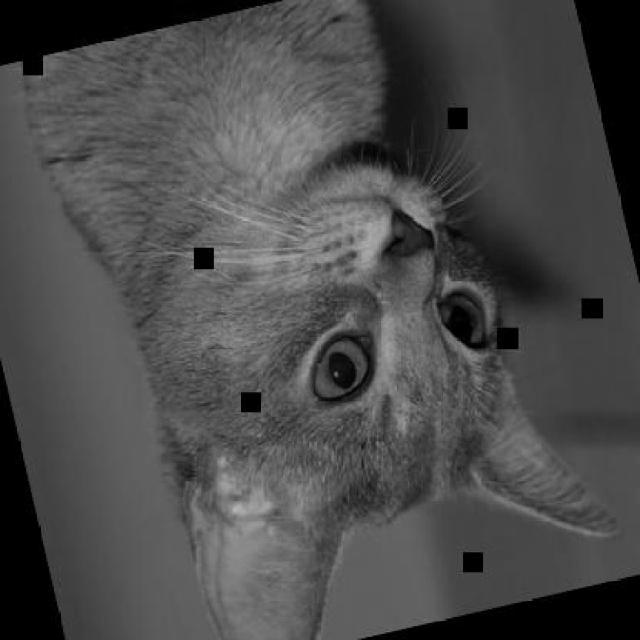Cat: (11, 0, 634, 638)
